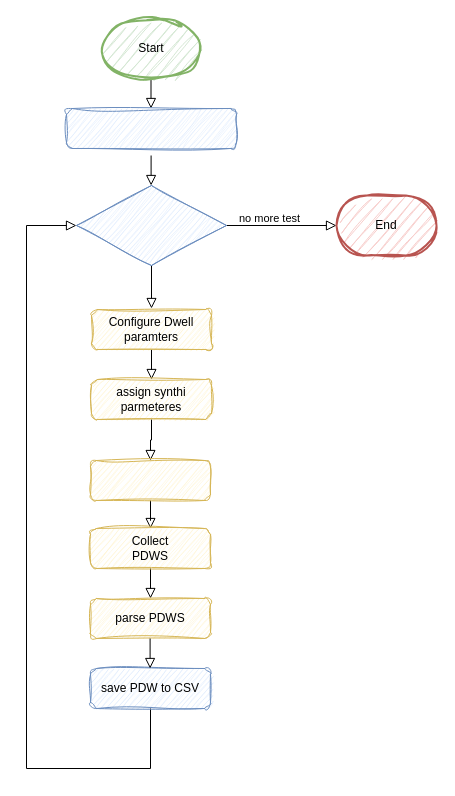
Some shapes in this 455 by 796 pixel diagram are drawn without their labels. The centre of each missing label's shape, as x and y in pixels:
loop through Test Cases: the point at 151,225
read test cases from XL: the point at 151,128
Run Dwell: the point at 150,480
